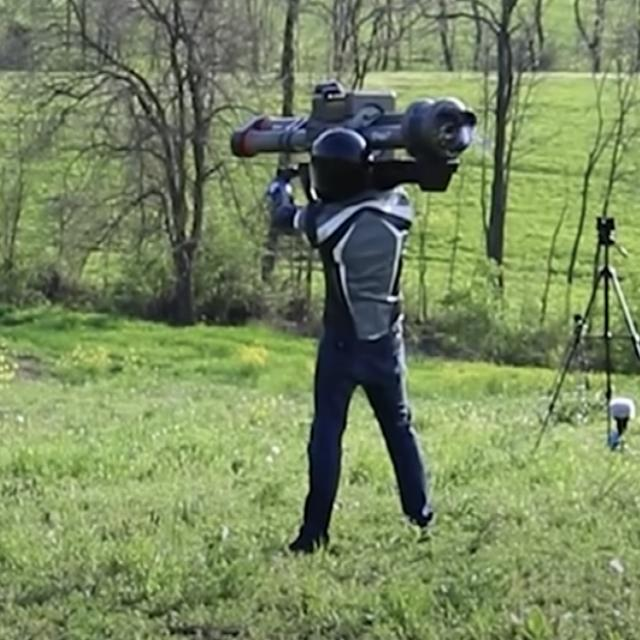bazooka: (216, 66, 483, 211)
